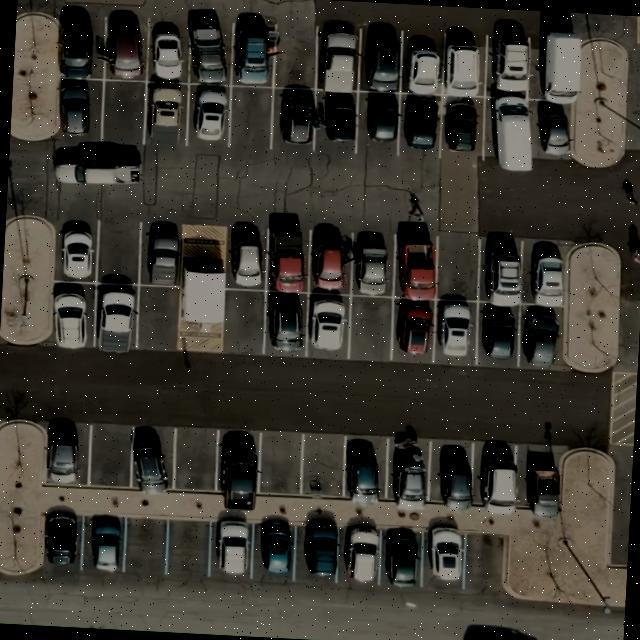space-empty: (96, 212, 144, 285), (434, 229, 482, 300), (170, 429, 220, 495), (464, 532, 514, 598), (272, 20, 319, 90), (258, 430, 304, 500), (300, 433, 348, 500), (165, 516, 212, 582), (220, 289, 267, 355), (86, 424, 132, 491), (136, 283, 181, 351), (348, 294, 394, 360), (100, 80, 146, 146), (230, 84, 273, 152), (125, 516, 168, 578)
space-occupied: (531, 24, 585, 104), (482, 96, 538, 170), (314, 21, 366, 92), (213, 430, 264, 502), (90, 282, 143, 351), (56, 206, 102, 284), (381, 438, 432, 508), (474, 442, 522, 516), (229, 21, 282, 88), (486, 29, 538, 97), (224, 221, 273, 291), (41, 420, 90, 489), (126, 426, 175, 494), (57, 12, 106, 80), (189, 20, 241, 84), (518, 442, 564, 514), (420, 524, 470, 590), (341, 435, 388, 504), (432, 298, 481, 364), (210, 514, 259, 580), (144, 81, 190, 151), (430, 440, 476, 510), (251, 516, 297, 586), (303, 294, 353, 358), (441, 95, 488, 163), (337, 520, 384, 588), (294, 516, 341, 584), (186, 84, 234, 150), (442, 30, 490, 96), (351, 227, 396, 297), (394, 228, 439, 298), (147, 17, 194, 84), (478, 236, 524, 304), (398, 31, 446, 96), (389, 297, 436, 363), (80, 514, 129, 576), (56, 78, 103, 142), (262, 290, 307, 356), (521, 240, 566, 306), (398, 95, 442, 162), (361, 27, 404, 95), (531, 102, 578, 164), (518, 305, 562, 371), (378, 526, 422, 592), (356, 92, 402, 155), (475, 305, 520, 367), (138, 224, 183, 286), (106, 15, 147, 83), (306, 228, 349, 292), (315, 90, 358, 154), (273, 87, 317, 149), (48, 287, 91, 350), (40, 512, 83, 574), (268, 228, 308, 290)
